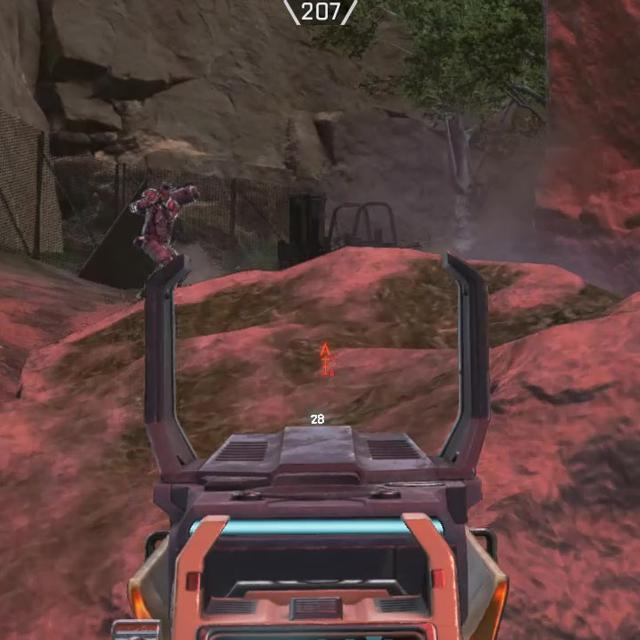avatar: (132, 180, 203, 268)
